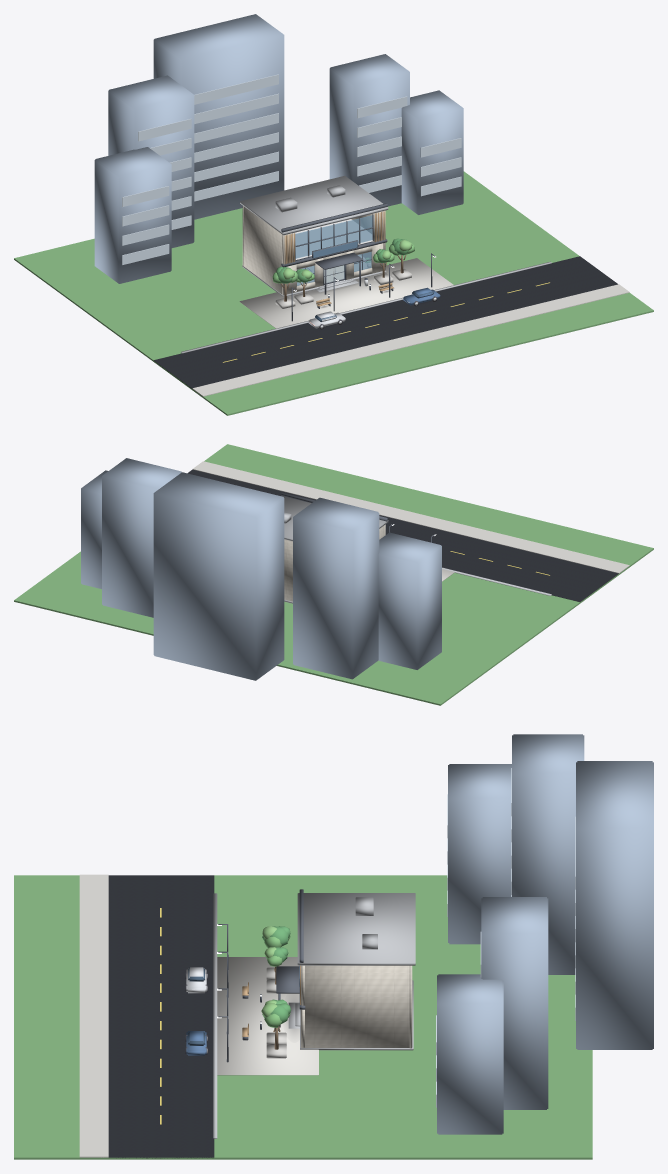
The model's file is wa_exterior_welfare.glb.
The picture shows the model from 3 angles, top to bottom: view 1: azimuth 30°, elevation 25°; view 2: azimuth 150°, elevation 25°; view 3: azimuth 270°, elevation 25°; orthographic projection. The views are drawn at different scales.
Visible parts, largest first — view 1: Merged_SkylineBldg, Ground_Grass, Road_Main, Merged_SkylineWin, Merged_Sidewalk, Merged_ConcreteDark, Merged_Concrete, Merged_CharcoalMetal, Merged_GlassExt, Int_Ceiling, Merged_WoodSlat, Merged_Planter; view 2: Merged_SkylineBldg, Ground_Grass, Road_Main, Merged_Sidewalk, Merged_ConcreteDark, Merged_Concrete; view 3: Merged_SkylineBldg, Ground_Grass, Road_Main, Merged_Sidewalk, Merged_ConcreteDark, Merged_Concrete, Merged_CharcoalMetal, Merged_Planter, Merged_Leaf1, Merged_SkylineWin.
Boxes of the visible parts, x1=… form: Merged_SkylineBldg: x1=94, y1=14, x2=463, y2=283; Ground_Grass: x1=14, y1=171, x2=653, y2=415; Road_Main: x1=154, y1=256, x2=617, y2=388; Merged_SkylineWin: x1=122, y1=74, x2=461, y2=264; Merged_Sidewalk: x1=192, y1=258, x2=629, y2=396; Merged_ConcreteDark: x1=181, y1=175, x2=551, y2=353; Merged_Concrete: x1=242, y1=206, x2=385, y2=295; Merged_CharcoalMetal: x1=281, y1=203, x2=435, y2=321; Merged_GlassExt: x1=295, y1=215, x2=372, y2=285; Int_Ceiling: x1=295, y1=219, x2=372, y2=259; Merged_WoodSlat: x1=284, y1=211, x2=393, y2=306; Merged_Planter: x1=275, y1=263, x2=411, y2=308; Merged_SkylineBldg: x1=81, y1=458, x2=441, y2=680; Ground_Grass: x1=14, y1=444, x2=653, y2=705; Road_Main: x1=187, y1=469, x2=618, y2=601; Merged_Sidewalk: x1=192, y1=461, x2=629, y2=581; Merged_ConcreteDark: x1=281, y1=496, x2=551, y2=603; Merged_Concrete: x1=284, y1=524, x2=385, y2=601; Merged_SkylineBldg: x1=437, y1=734, x2=653, y2=1134; Ground_Grass: x1=14, y1=875, x2=592, y2=1159; Road_Main: x1=108, y1=875, x2=214, y2=1158; Merged_Sidewalk: x1=79, y1=874, x2=318, y2=1157; Merged_ConcreteDark: x1=213, y1=893, x2=415, y2=1138; Merged_Concrete: x1=301, y1=965, x2=412, y2=1048; Merged_CharcoalMetal: x1=218, y1=889, x2=305, y2=1062; Merged_Planter: x1=266, y1=967, x2=286, y2=1058; Merged_Leaf1: x1=262, y1=926, x2=290, y2=1023; Merged_SkylineWin: x1=436, y1=768, x2=575, y2=1107.
Size of the model in its own units: 60 by 22.2 by 57.5.
40 materials, 7 textured.
